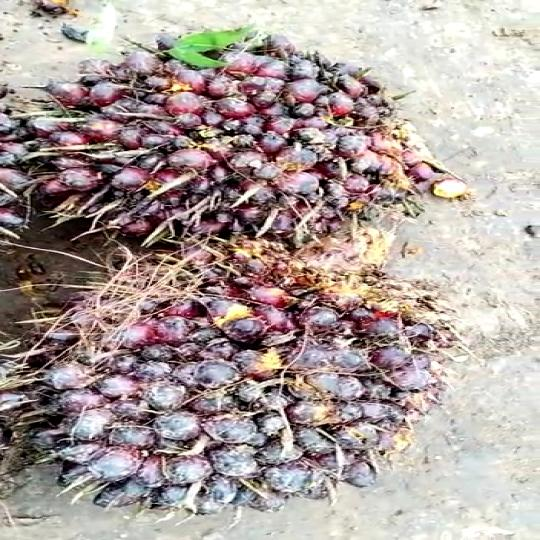kurang masak: (0, 2, 442, 514)
